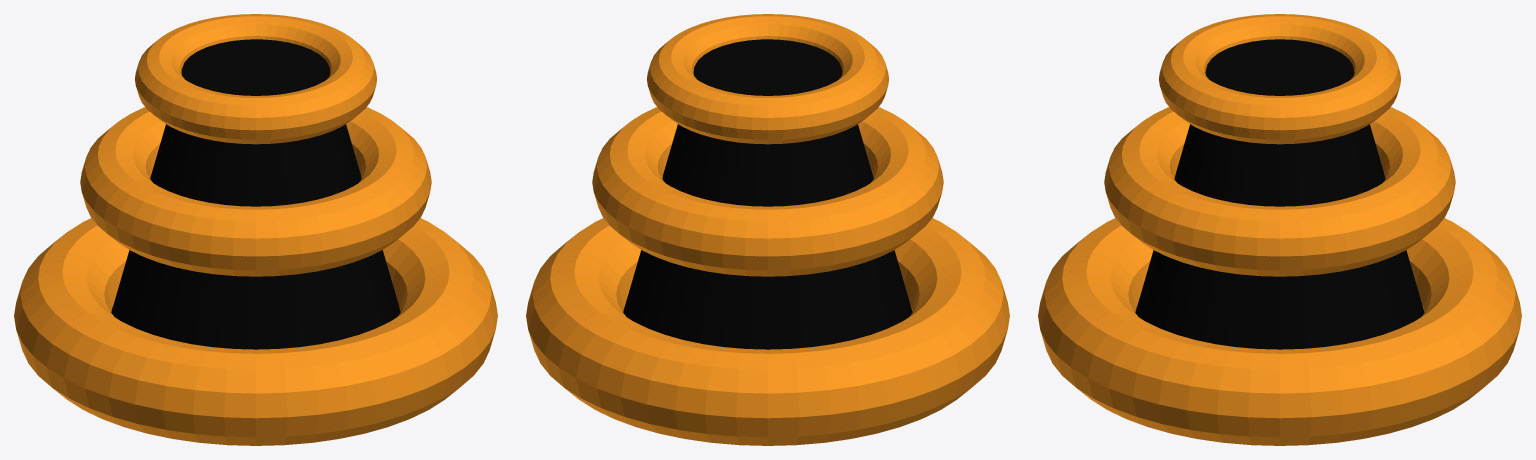
The model's file is Narancs torony also.glb.
3 views of the same model, side by side, from view 1: azimuth 30°, elevation 25°; view 2: azimuth 150°, elevation 25°; view 3: azimuth 270°, elevation 25° (orthographic).
Parts seen in each view (by area): view 1: Torus.012; view 2: Torus.012; view 3: Torus.012.
Boxes of the visible parts, bbox=[...] form: Torus.012: bbox=[14, 14, 497, 445]; Torus.012: bbox=[526, 14, 1009, 445]; Torus.012: bbox=[1038, 14, 1521, 445].
Size of the model in its own units: 3.12 by 2.15 by 3.12.
